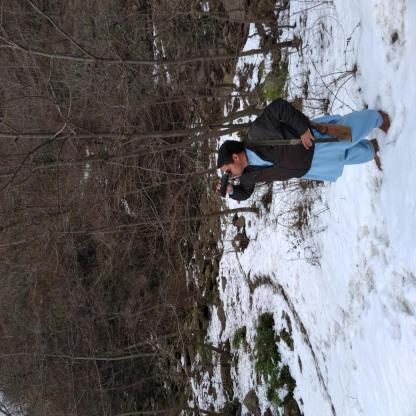rifle: (207, 116, 353, 144)
